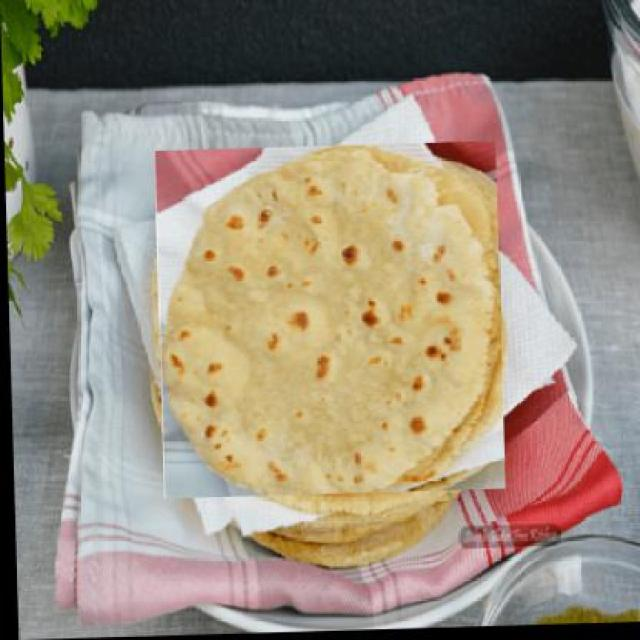chapati: (151, 146, 506, 500)
